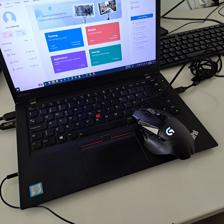mouse: (130, 106, 195, 160)
